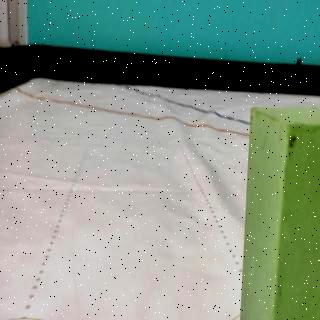greenbox: (237, 105, 320, 320)
